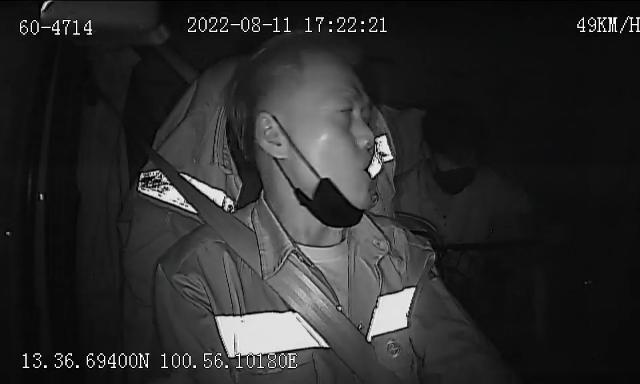Seatbelt: (160, 168, 378, 384)
